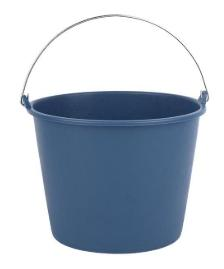SEAU: (6, 6, 224, 269)
